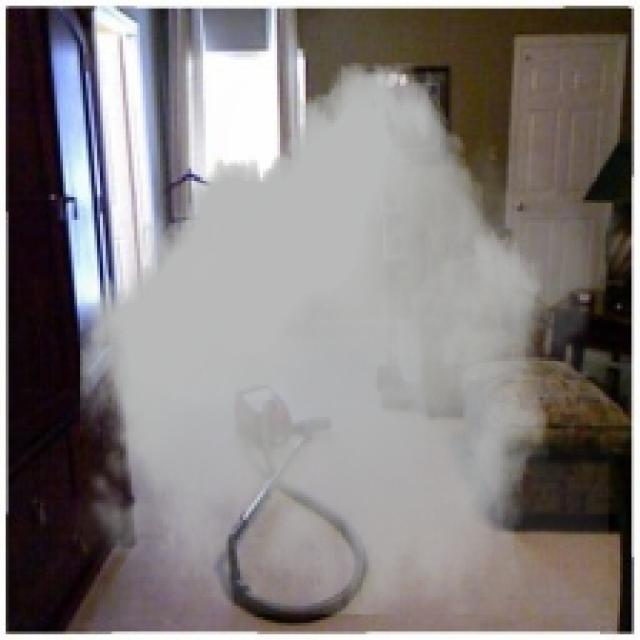Smoke: (71, 62, 608, 614)
